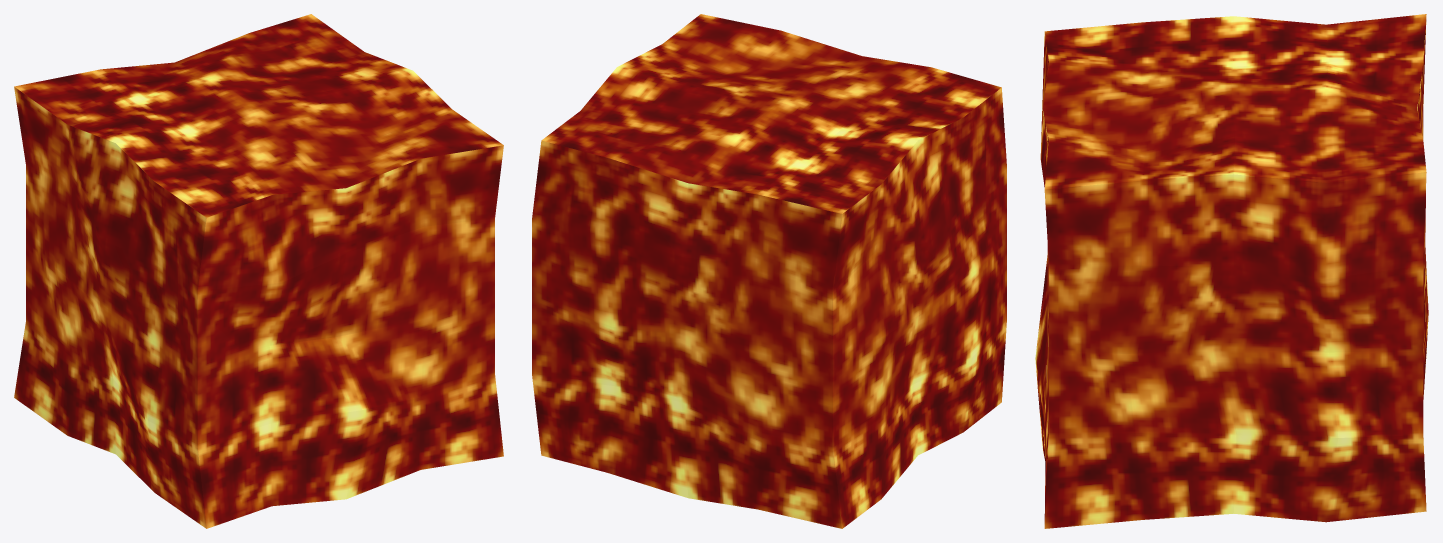
File: lava.glb
3 renders of one model, left to right at view 1: azimuth 30°, elevation 25°; view 2: azimuth 150°, elevation 25°; view 3: azimuth 270°, elevation 25°, orthographic. The views are drawn at different scales.
Parts seen in each view (by area): view 1: Cube.001; view 2: Cube.001; view 3: Cube.001.
Boxes of the visible parts, left/top/right/bottom form: Cube.001: left=14, top=14, right=503, bottom=528; Cube.001: left=532, top=14, right=1006, bottom=528; Cube.001: left=1035, top=14, right=1428, bottom=528.
Size of the model in its own units: 1.07 by 1.06 by 1.05.
Materials: 1 (1 with a texture image).
